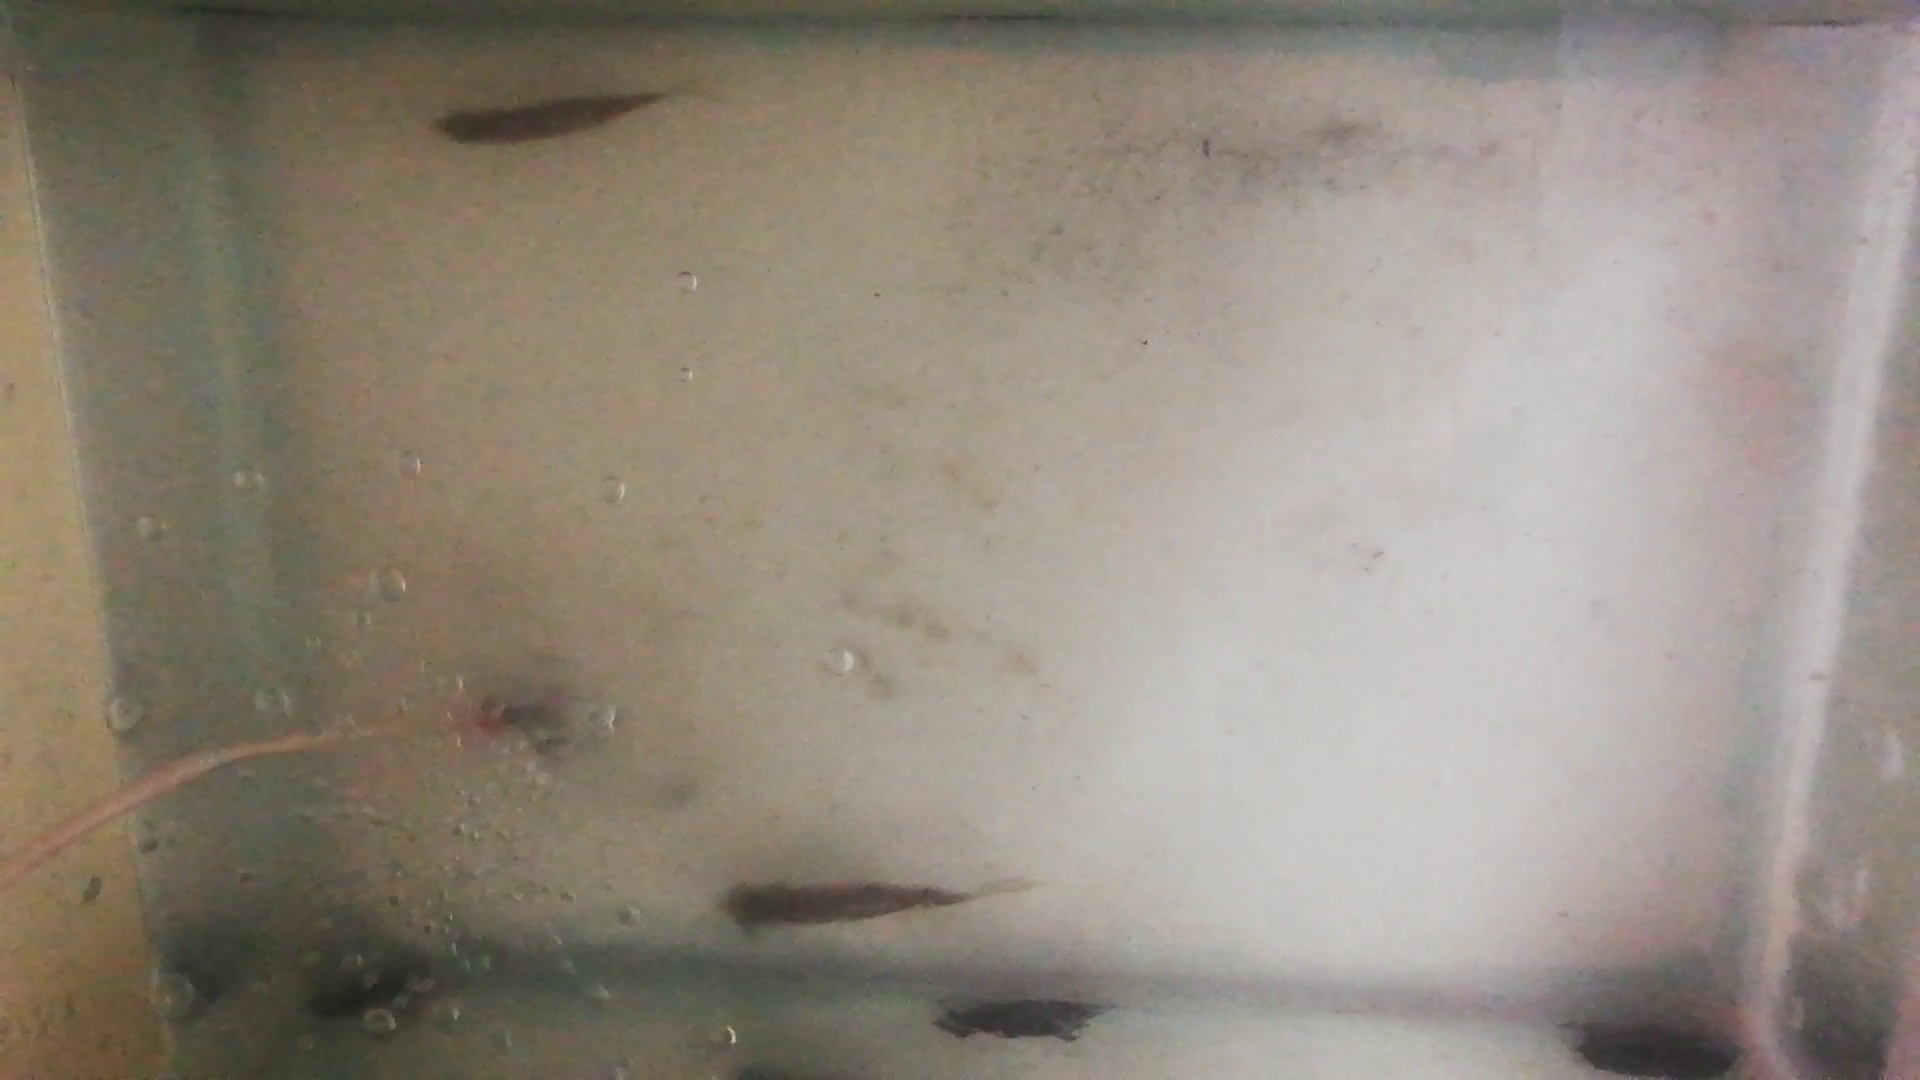fish: (715, 876, 968, 930), (427, 88, 662, 145)
